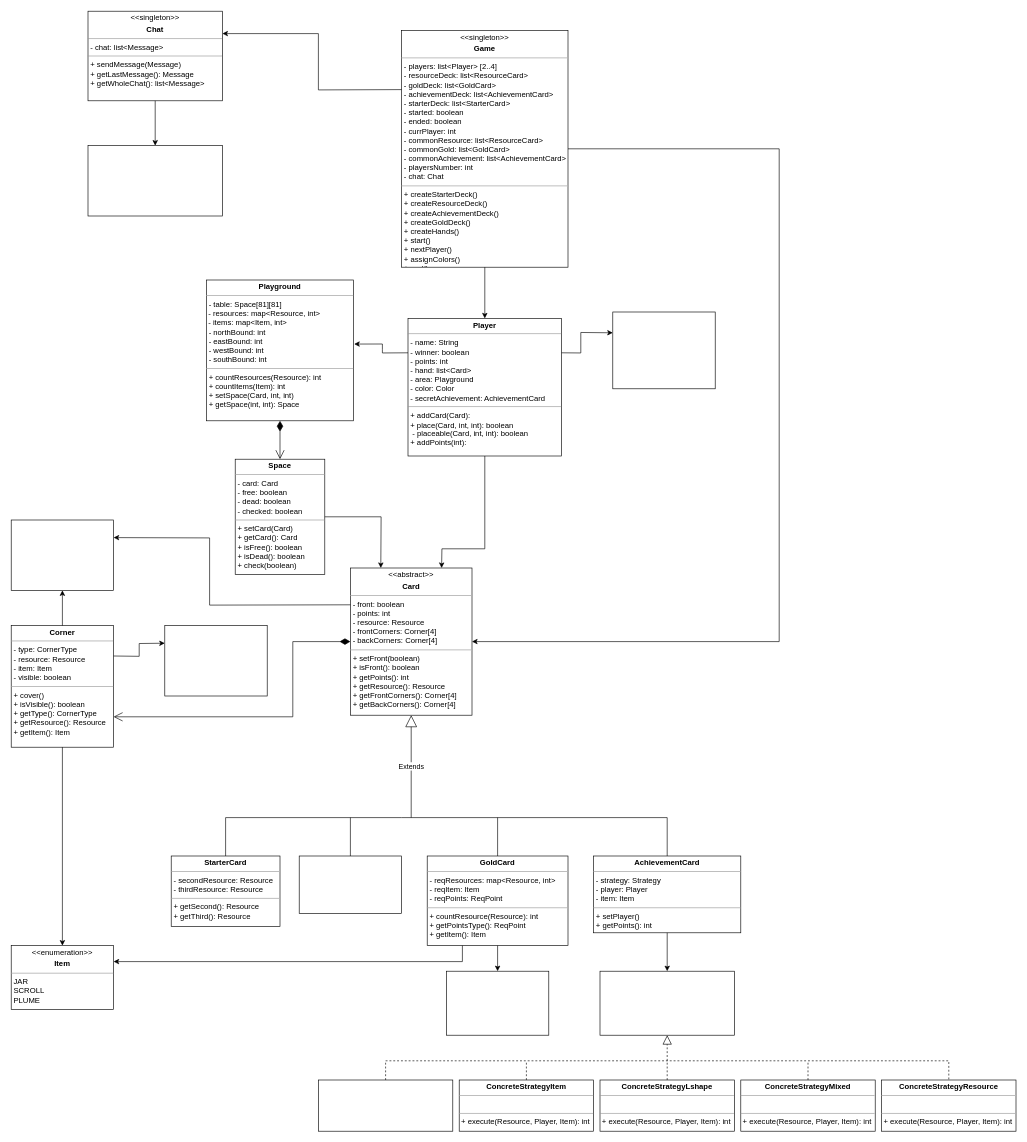
The diagram is 1027 pixels wide and 1142 high, and some of its shapes have lost their labels. The centre of each missing label's shape, as x and y in pixels:
<<enumeration>> Color RED BLUE GREEN YELLOW NONE: [663,350]
<<enumeration>> CornerType RESOURCE ITEM FREE DEAD: [215,660]
<<enumeration>> ReqPoint CORNER ITEM SIMPLE: [497,1003]
<<enumeration>> Resource WOLF BUTTERFLY LEAF MUSHROOM: [62,554]
<<interface>> Strategy + execute(Resource, Player, Item): int: [666,1003]
ConcreteStrategyDiagonal + execute(Resource, Player, Item): int: [385,1105]
Message - text: String - author: String - time: LocalTime + print(): [154,180]
ResourceCard: [350,884]
